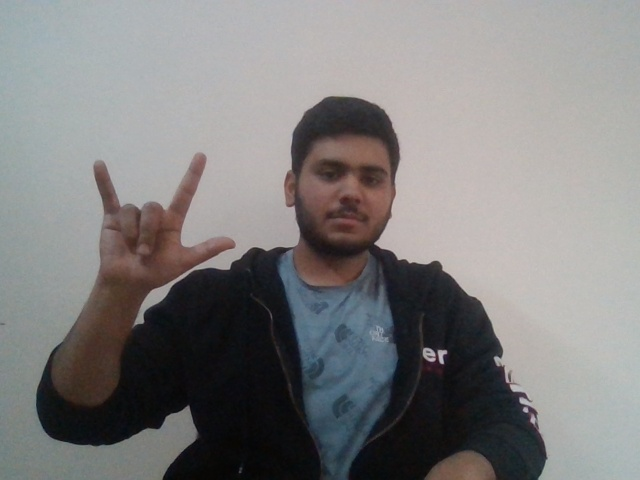IloveYou: (77, 153, 245, 271)
